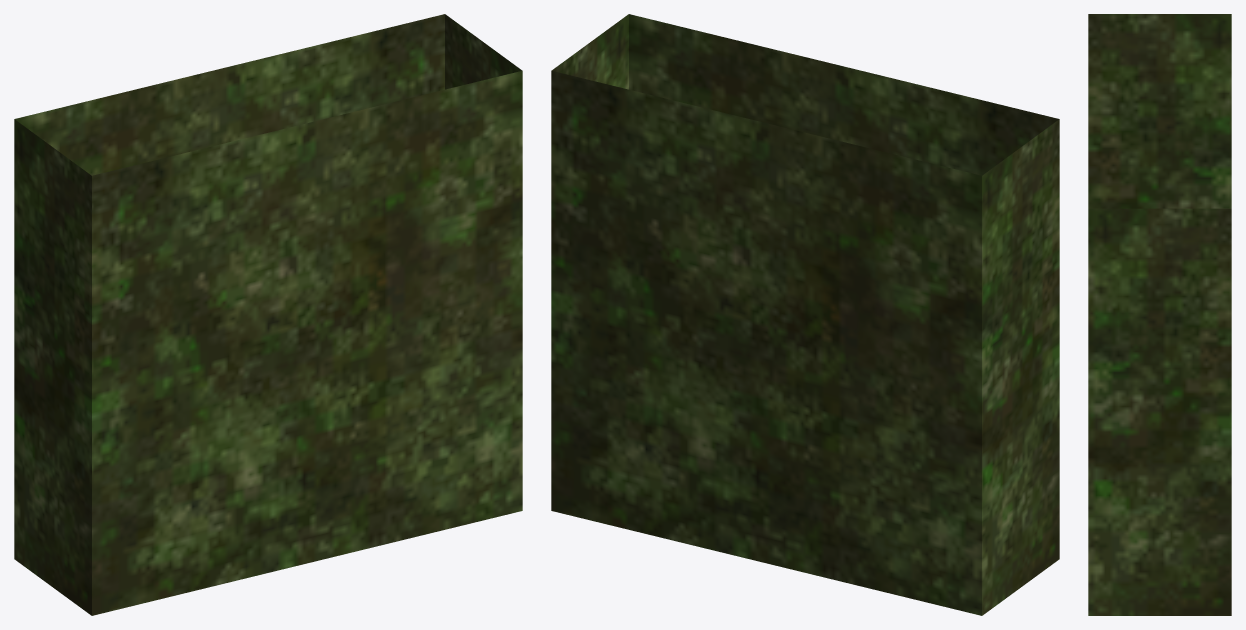
The model's file is OVERHILL_A_01_OBJECT249.fbx.
The picture shows the model from 3 angles, left to right: view 1: azimuth 30°, elevation 25°; view 2: azimuth 150°, elevation 25°; view 3: azimuth 270°, elevation 25°; orthographic projection. The views are drawn at different scales.
Parts seen in each view (by area): view 1: OVERHILL_A_01_OBJECT249; view 2: OVERHILL_A_01_OBJECT249; view 3: OVERHILL_A_01_OBJECT249.
Boxes of the visible parts, <box> form: OVERHILL_A_01_OBJECT249: <box>14,14,522,615</box>; OVERHILL_A_01_OBJECT249: <box>551,14,1059,615</box>; OVERHILL_A_01_OBJECT249: <box>1088,14,1231,615</box>.
Bounding box in the file's own units: 23912 × 23354 × 7452.
Materials: 1 (1 with a texture image).
